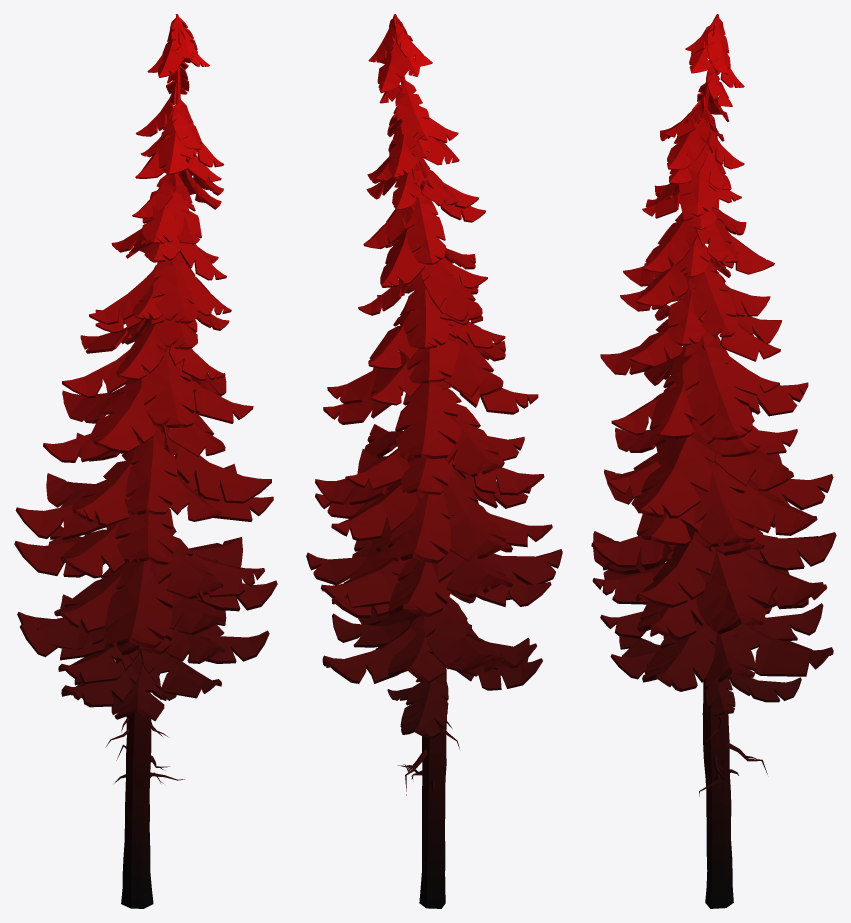
Rendered from TreeSpruceTall07.fbx.
3 views of the same model, side by side, from view 1: azimuth 30°, elevation 25°; view 2: azimuth 150°, elevation 25°; view 3: azimuth 270°, elevation 25° (orthographic). The views are drawn at different scales.
Visible parts, largest first — view 1: TreeSpruceTall07_LOD0; view 2: TreeSpruceTall07_LOD0; view 3: TreeSpruceTall07_LOD0.
Boxes of the visible parts, x1,y1,x2,y2 form: TreeSpruceTall07_LOD0: (14, 14, 277, 908); TreeSpruceTall07_LOD0: (306, 14, 562, 908); TreeSpruceTall07_LOD0: (591, 14, 836, 908).
Size of what is drawn, in the model's own units: 423 by 1661 by 407.
